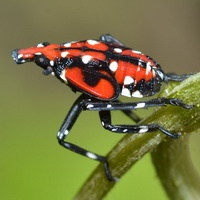insect: (12, 34, 199, 199), (64, 109, 132, 157)
